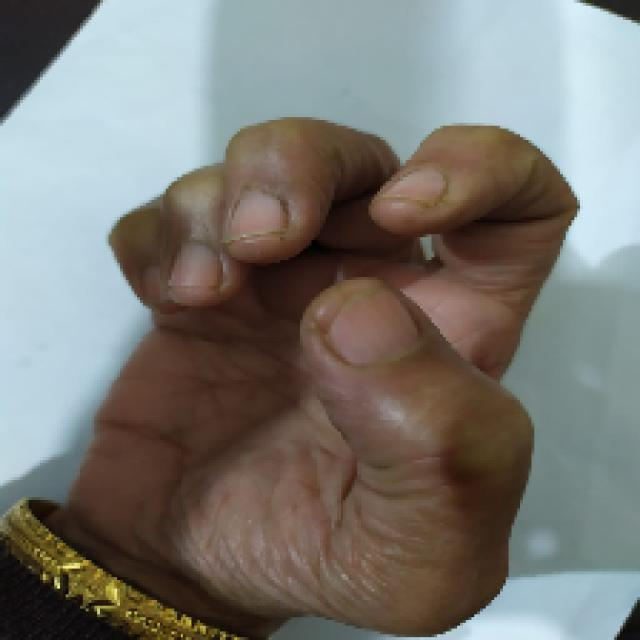Nail: (329, 289, 421, 365), (230, 191, 288, 240), (170, 241, 221, 289), (385, 170, 448, 205), (144, 265, 168, 306)
